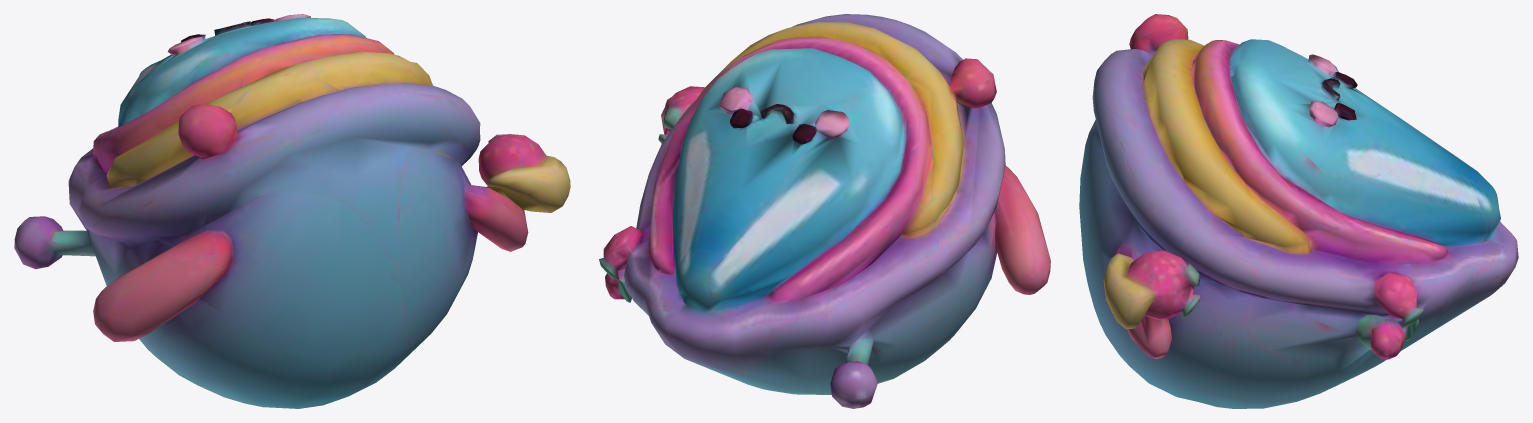
The picture shows the model from 3 angles, left to right: view 1: azimuth 30°, elevation 25°; view 2: azimuth 150°, elevation 25°; view 3: azimuth 270°, elevation 25°; orthographic projection. The views are drawn at different scales.
Parts seen in each view (by area): view 1: material; view 2: material; view 3: material.
Boxes of the visible parts, x1,y1,x2,y2 form: material: (14, 14, 570, 408); material: (599, 14, 1050, 408); material: (1079, 14, 1518, 408).
Size of the model in its own units: 1 by 0.78 by 0.9156.
1 material, 1 textured.
